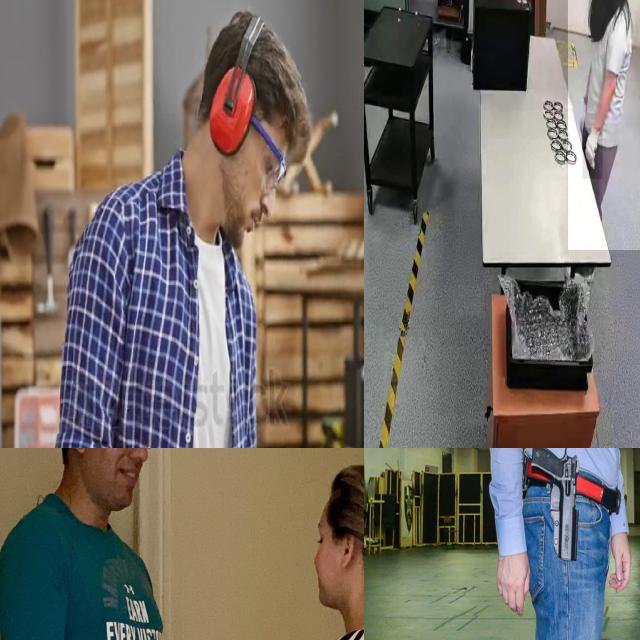Ear-protection: (202, 59, 256, 160)
No_Ear-Protection: (340, 526, 357, 571)
glasses: (249, 107, 285, 203)
hand_glove: (583, 127, 603, 180)
person: (49, 0, 314, 448), (487, 448, 640, 640), (567, 0, 640, 251)
